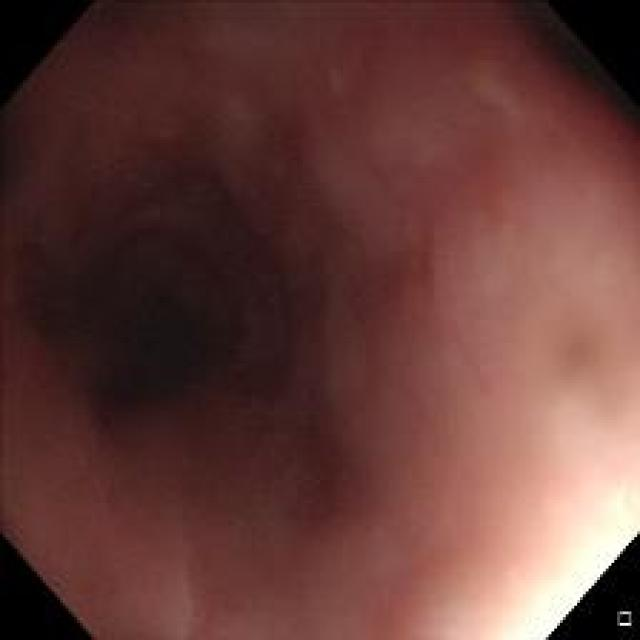contrast: (29, 82, 390, 494)
saturation: (494, 530, 632, 632)
